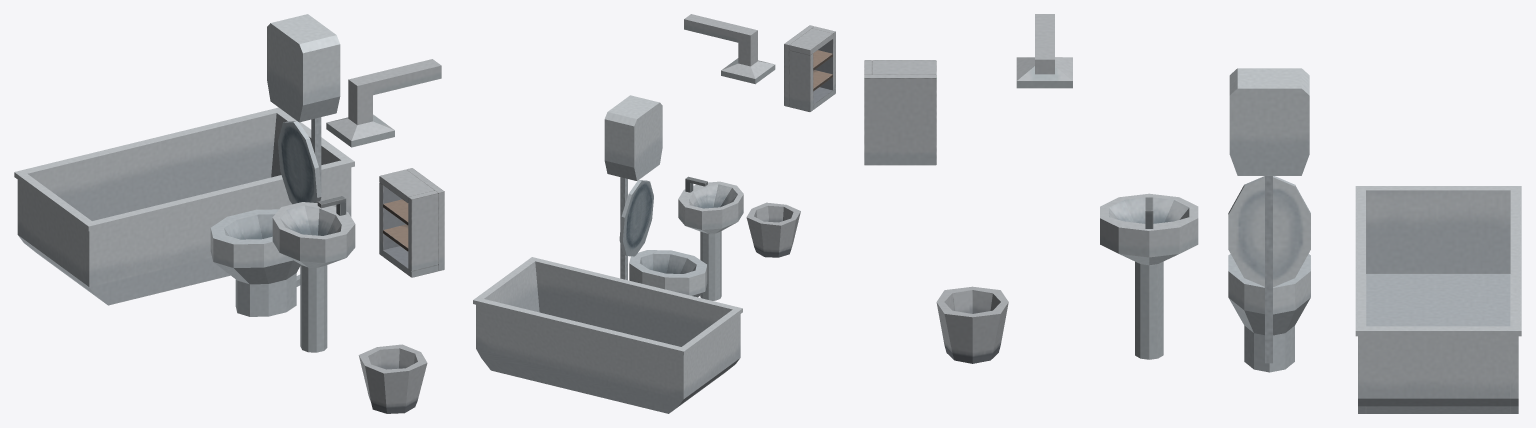
Rendered from BathRoom.fbx.
3 views of the same model, side by side, from view 1: azimuth 30°, elevation 25°; view 2: azimuth 150°, elevation 25°; view 3: azimuth 270°, elevation 25° (orthographic). The views are drawn at different scales.
Parts seen in each view (by area): view 1: Tub, Tank, sink, Blow, Cabinet, Shower, Trash can, Top, Tube; view 2: Tub, Tank, sink, Cabinet, Blow, Shower, Trash can, Top, Tube; view 3: Tub, Tank, sink, Cabinet, Top, Blow, Trash can, Shower, Tube.
Boxes of the visible parts, left/top/right/bottom form: Tub: left=14, top=107, right=354, bottom=305; Tank: left=267, top=14, right=340, bottom=122; sink: left=272, top=202, right=355, bottom=352; Blow: left=210, top=209, right=300, bottom=316; Cabinet: left=379, top=168, right=444, bottom=277; Shower: left=326, top=59, right=441, bottom=147; Trash can: left=358, top=344, right=427, bottom=413; Top: left=278, top=120, right=321, bottom=204; Tube: left=296, top=117, right=321, bottom=286; Tub: left=473, top=257, right=742, bottom=413; Tank: left=604, top=95, right=662, bottom=180; sink: left=678, top=181, right=743, bottom=300; Cabinet: left=784, top=25, right=835, bottom=111; Blow: left=629, top=250, right=707, bottom=297; Shower: left=684, top=14, right=775, bottom=84; Trash can: left=746, top=202, right=800, bottom=257; Top: left=619, top=180, right=653, bottom=256; Tube: left=620, top=177, right=627, bottom=280; Tub: left=1355, top=186, right=1521, bottom=413; Tank: left=1229, top=68, right=1309, bottom=175; sink: left=1100, top=193, right=1198, bottom=359; Cabinet: left=864, top=60, right=936, bottom=165; Top: left=1228, top=176, right=1310, bottom=287; Blow: left=1228, top=254, right=1310, bottom=372; Trash can: left=936, top=286, right=1008, bottom=363; Shower: left=1016, top=14, right=1072, bottom=88; Tube: left=1265, top=176, right=1272, bottom=363.
Size of the model in its own units: 267 by 288 by 512.
Materials: 7 (7 with a texture image).
